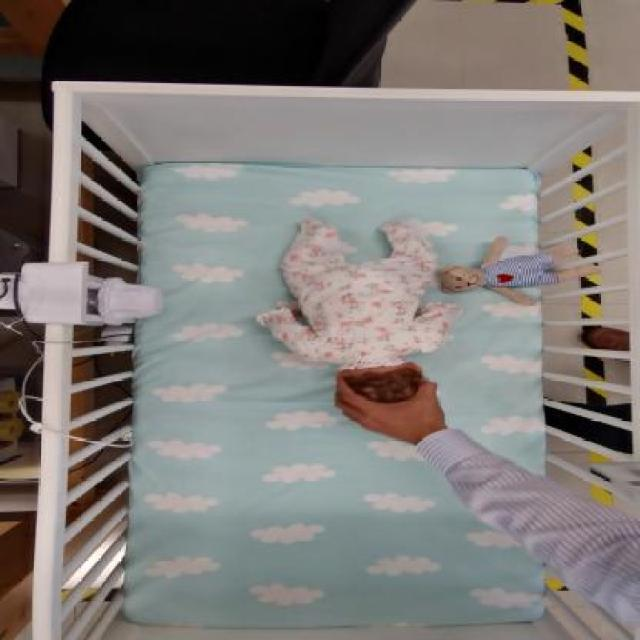baby: (261, 218, 458, 409)
